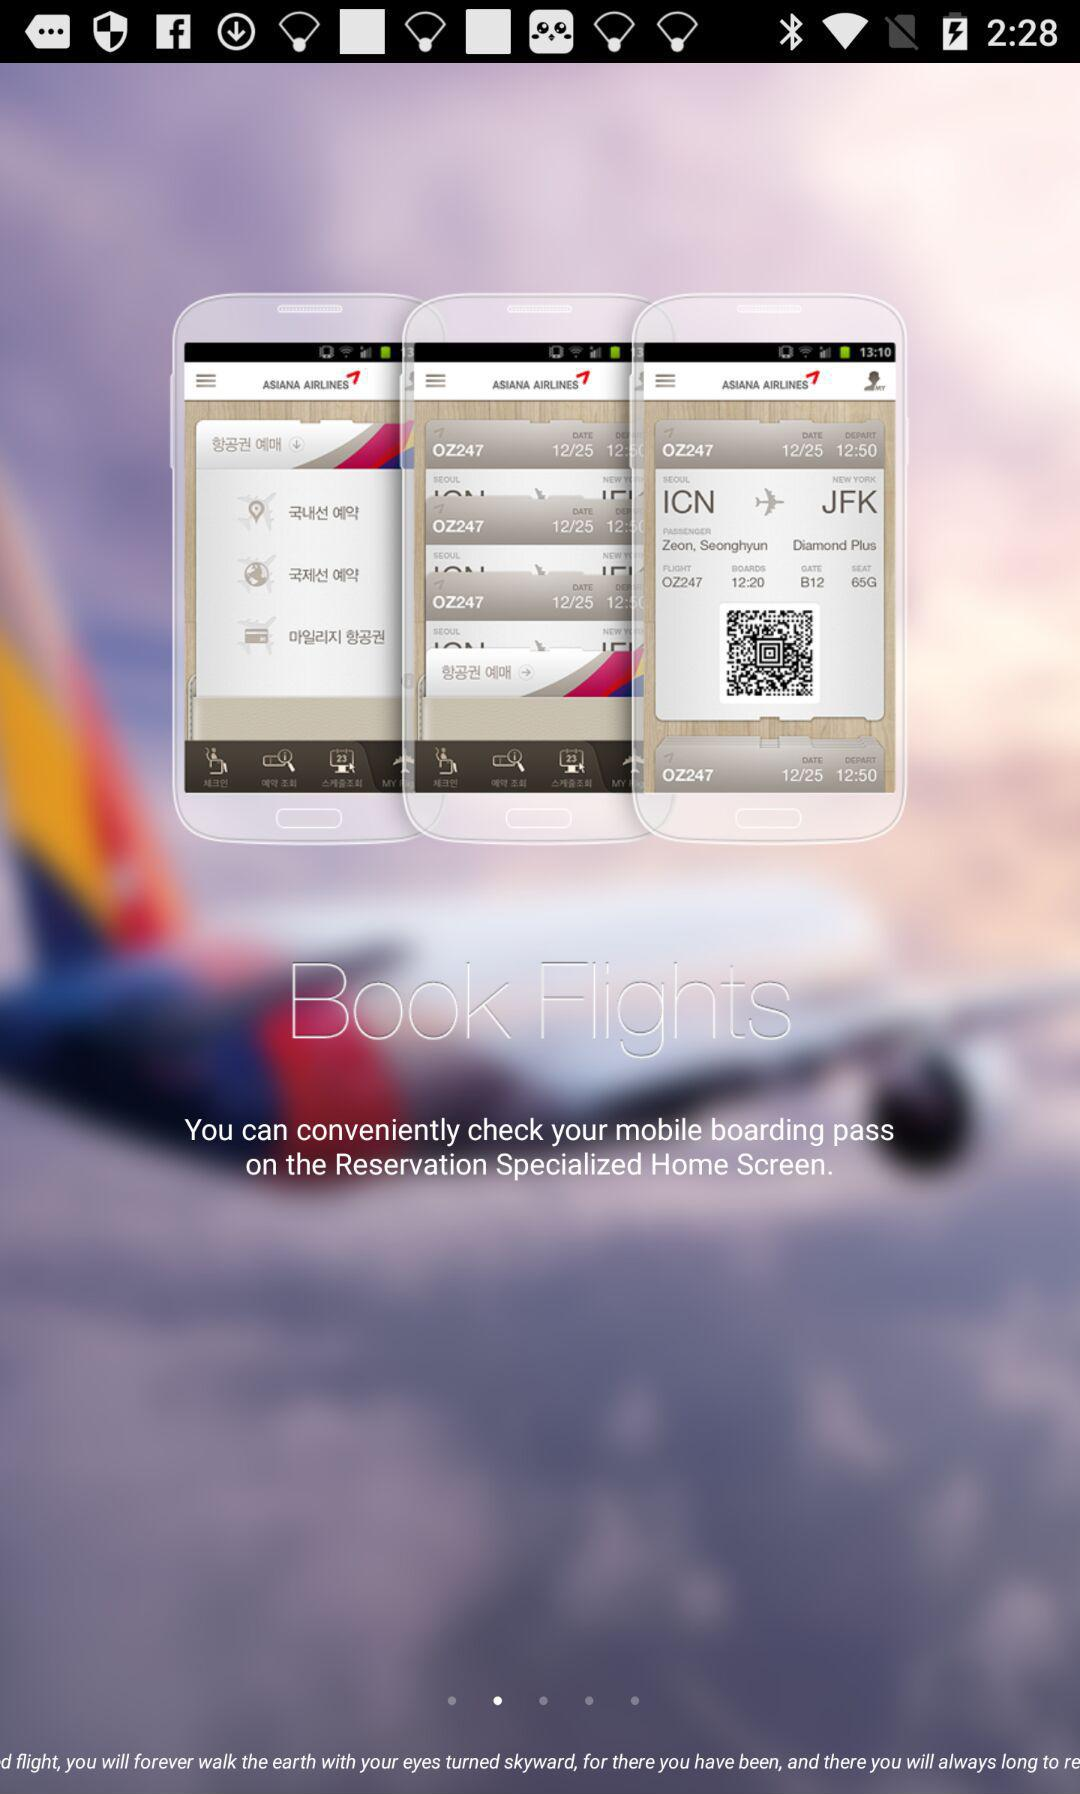BackgroundImage: (1, 64, 1080, 1794)
Image: (169, 292, 911, 847)
PageIndicator: (447, 1694, 641, 1708)
Text: (291, 960, 793, 1062), (183, 1116, 896, 1183), (1, 1752, 1080, 1773)
UpperTaskBar: (1, 1, 1080, 64)
